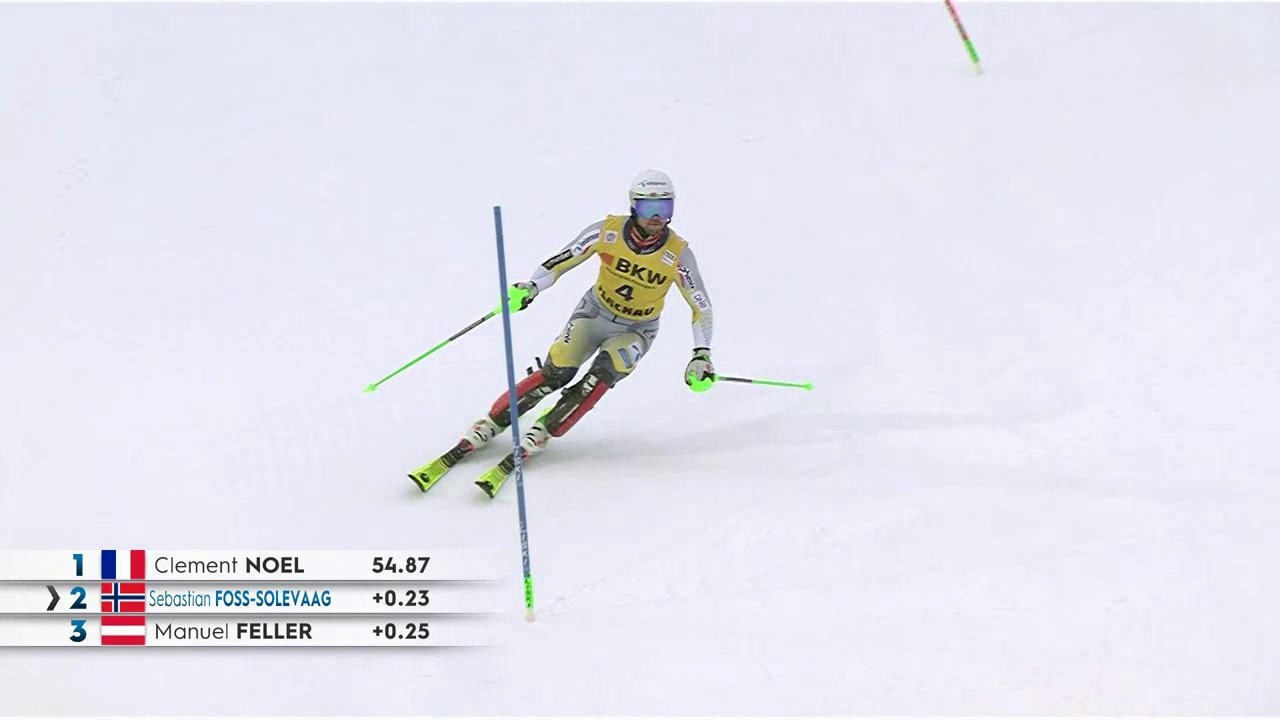rauch: (611, 256, 672, 293)
